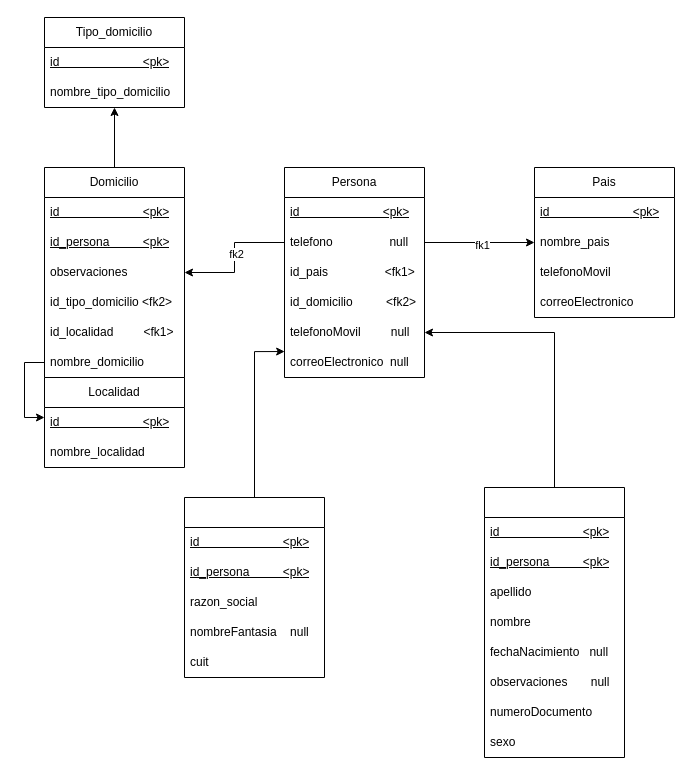
This 692x775 diagram has some shape labels left out. The shapes that lost their labels are listed below. From the top down, each one's box as (x1, y1, x2, y2) in pixels, then its label:
(184, 496, 324, 678): Persona_fisica
(484, 486, 624, 758): Persona_juridica
